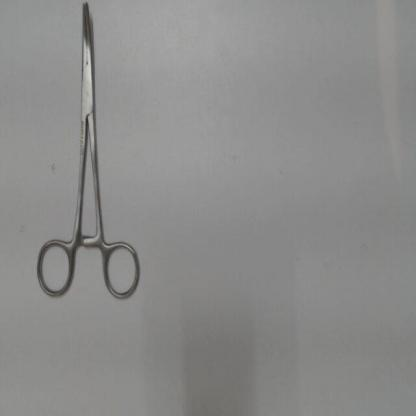Crile Artery Forceps: (26, 1, 146, 310)
